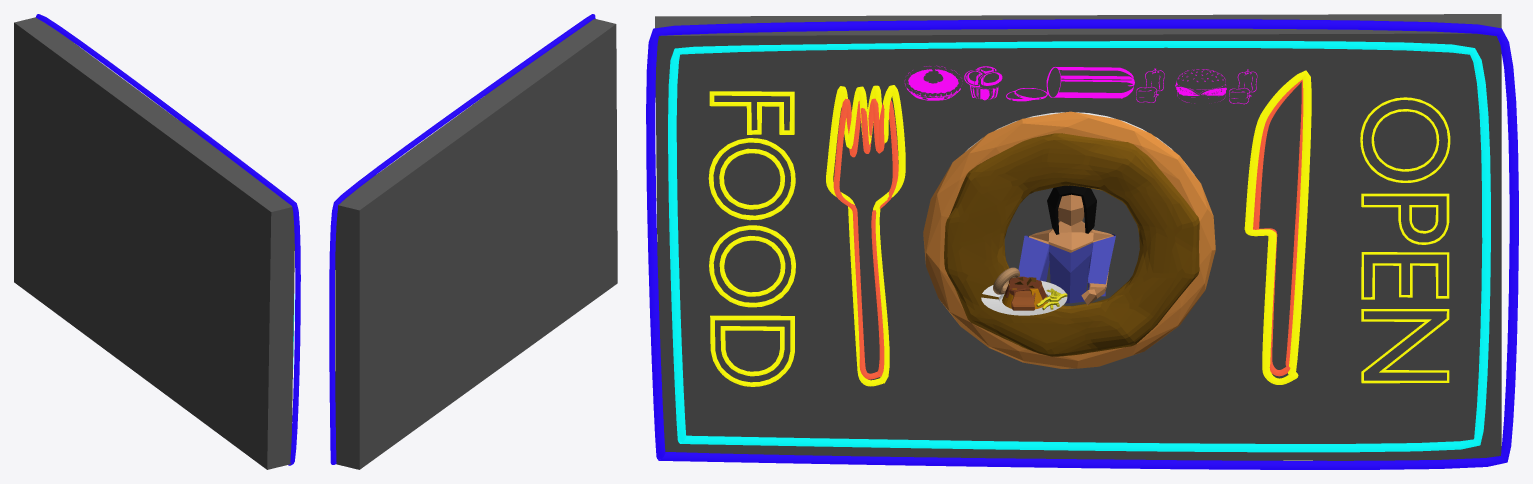
The model's file is Banner.glb.
3 views of the same model, side by side, from view 1: azimuth 30°, elevation 25°; view 2: azimuth 150°, elevation 25°; view 3: azimuth 270°, elevation 25° (orthographic). The views are drawn at different scales.
Visible parts, largest first — view 1: Plane.001, Background Color; view 2: Plane.001, Background Color; view 3: Plane.001, Icing.001, Background Color, Background Color.001, Bread, Food, Knife - Yellow, Text.003, Fork - Yellow, Fork.001, Text, Cloth (+4 smaller).
Boxes of the visible parts, x1=… form: Plane.001: x1=14, y1=17, x2=294, y2=469; Background Color: x1=36, y1=14, x2=300, y2=465; Plane.001: x1=335, y1=19, x2=617, y2=469; Background Color: x1=329, y1=14, x2=595, y2=464; Plane.001: x1=655, y1=14, x2=1501, y2=460; Icing.001: x1=944, y1=133, x2=1199, y2=356; Background Color: x1=646, y1=19, x2=1518, y2=469; Background Color.001: x1=668, y1=41, x2=1490, y2=452; Bread: x1=923, y1=111, x2=1215, y2=368; Food: x1=708, y1=91, x2=795, y2=386; Knife - Yellow: x1=1244, y1=70, x2=1311, y2=384; Text.003: x1=1360, y1=97, x2=1450, y2=383; Fork - Yellow: x1=826, y1=85, x2=905, y2=386; Fork.001: x1=833, y1=98, x2=898, y2=379; Text: x1=904, y1=65, x2=1257, y2=104; Cloth: x1=1018, y1=234, x2=1115, y2=303.
Bounding box in the file's own units: 8.22 × 21.12 × 37.25.
